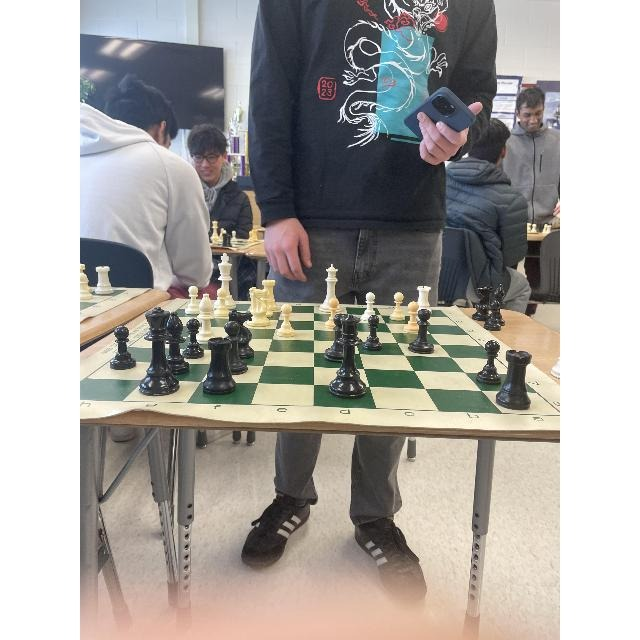black-king: (145, 303, 173, 400)
black-knight: (205, 326, 237, 395)
black-pawn: (484, 338, 500, 383), (363, 306, 381, 346), (362, 282, 379, 312)
black-rook: (340, 318, 364, 399), (407, 292, 431, 352), (113, 322, 136, 379)
white-bishop: (320, 265, 342, 323), (275, 304, 303, 342)
